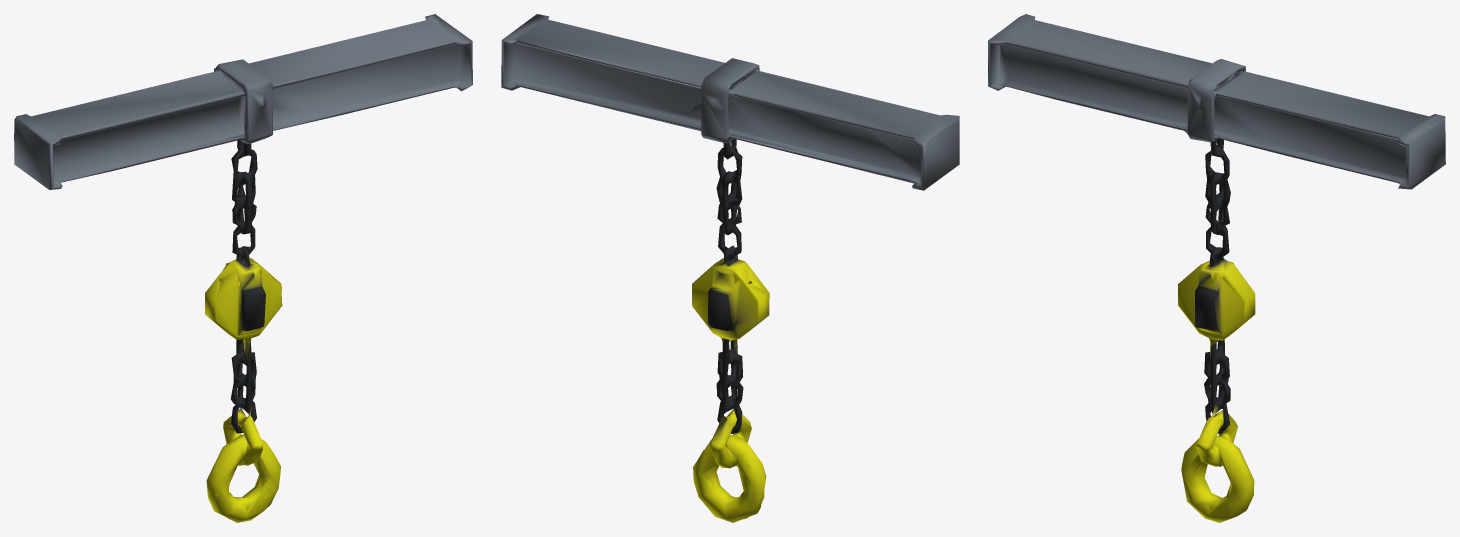
File: gen3d-chain-hoist-lod1.glb
3 views of the same model, side by side, from view 1: azimuth 30°, elevation 25°; view 2: azimuth 150°, elevation 25°; view 3: azimuth 330°, elevation 25° (orthographic).
Parts seen in each view (by area): view 1: part_0; view 2: part_0; view 3: part_0.
Part boxes in pixels (bbox=[...]): part_0: bbox=[14, 14, 472, 522]; part_0: bbox=[501, 14, 959, 522]; part_0: bbox=[988, 14, 1445, 522].
Bounding box in the file's own units: 0.9849 × 0.9981 × 0.1506.
